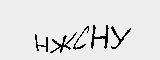Ж: (51, 32, 74, 56)
Н: (90, 24, 112, 54), (32, 32, 49, 53)
С: (71, 25, 90, 50)
У: (110, 25, 131, 54)
